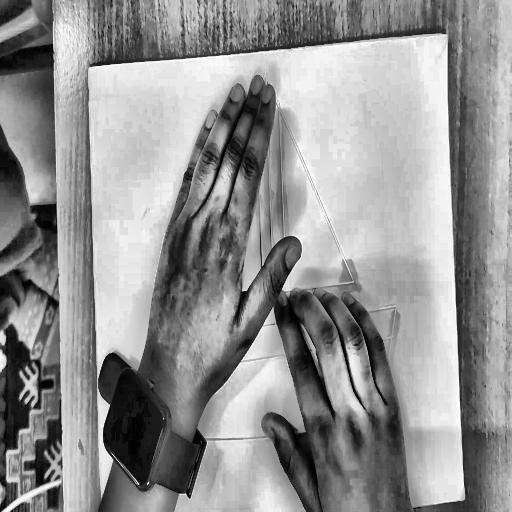boat: (143, 55, 407, 456)
bottom_right: (462, 492, 468, 502)
top_left: (86, 62, 93, 74)
top_right: (443, 27, 451, 44)
